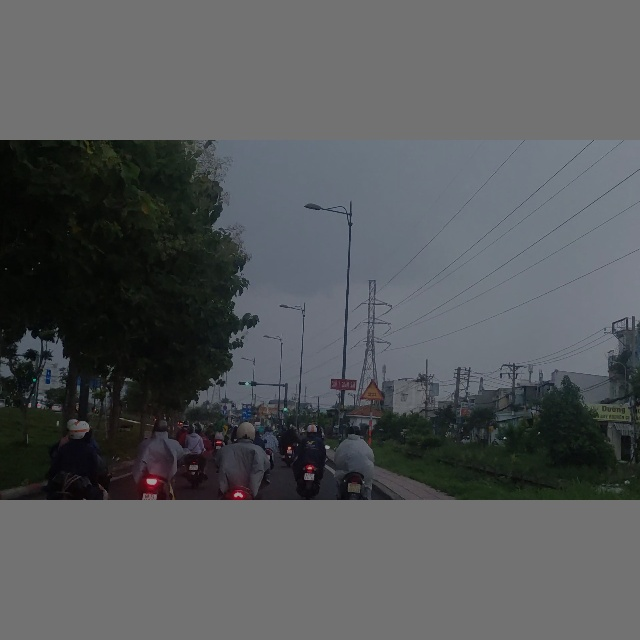W.210: (360, 380, 384, 400)
